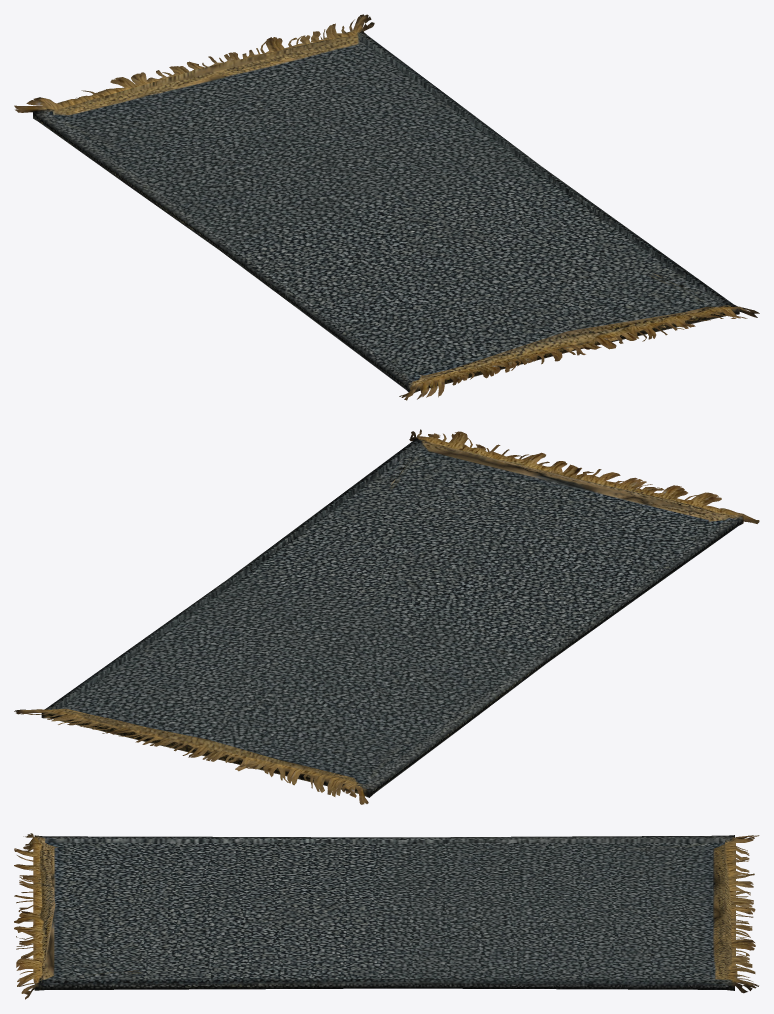
File: tappeto_corsia.fbx
3 views of the same model, one above another, from view 1: azimuth 30°, elevation 25°; view 2: azimuth 150°, elevation 25°; view 3: azimuth 270°, elevation 25° (orthographic). The views are drawn at different scales.
Parts seen in each view (by area): view 1: tripo_node_f0e5480a; view 2: tripo_node_f0e5480a; view 3: tripo_node_f0e5480a.
Part boxes in pixels (<box>): tripo_node_f0e5480a: <box>14,14,759,400</box>; tripo_node_f0e5480a: <box>14,429,759,804</box>; tripo_node_f0e5480a: <box>14,833,759,999</box>.
Bounding box in the file's own units: 0.5171 × 0.0239 × 0.9995.
Materials: 1 (1 with a texture image).
